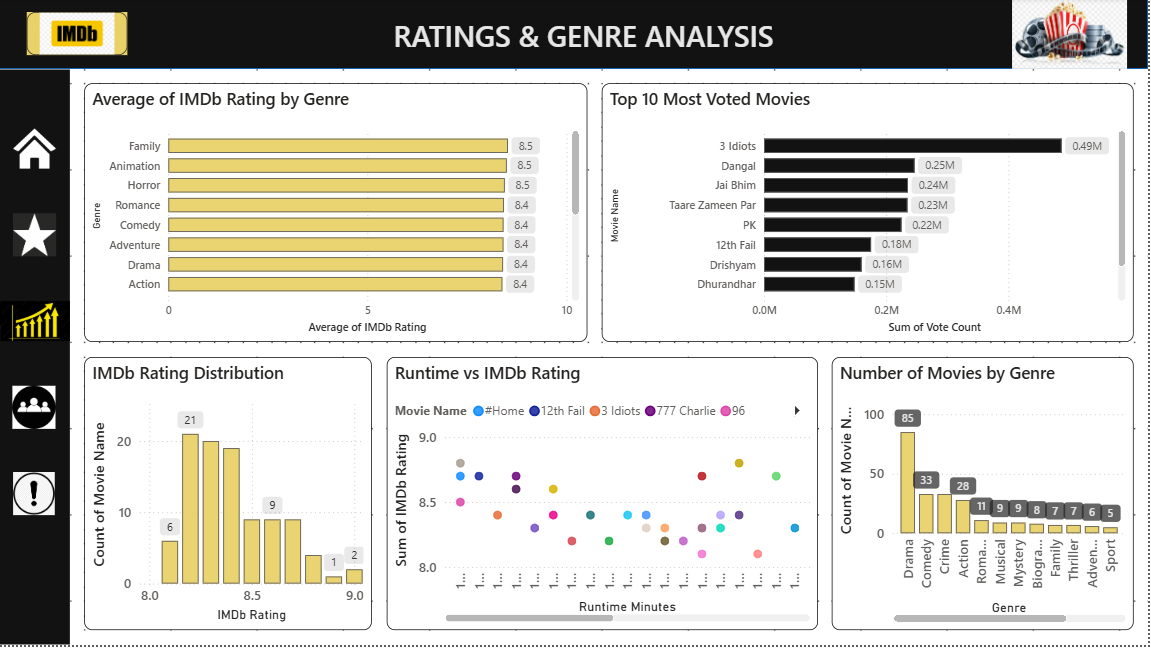

This screenshot's page, from the dashboard's own definition file:
{"tool":"powerbi","page":{"name":"Ratings & Genre Analysis","canvas":[1280,720],"ordinal":1},"visuals":[{"type":"shape","box":[0,0,1280,80],"z":0},{"type":"shape","box":[0,80,80,640],"z":1},{"type":"textbox","box":[384,16,528,64],"z":2},{"type":"image","box":[32,16,112,48],"z":3},{"type":"image","box":[16,144,48,48],"z":4},{"type":"image","box":[16,240,48,48],"z":5},{"type":"image","box":[0,336,80,48],"z":6},{"type":"image","box":[0,432,80,48],"z":7},{"type":"image","box":[0,528,80,48],"z":8},{"type":"clusteredBarChart","fields":{"Category":["Genre.Genre"],"Y":["Avg(Movies.IMDb Rating)"]},"box":[96,96,560,288],"z":9},{"type":"lineStackedColumnComboChart","title":"Number of Movies by Genre","fields":{"Category":["Genre.Genre"],"Y":["CountNonNull(Movies.Movie Name)"]},"box":[928,400,336,304],"z":10},{"type":"columnChart","title":"IMDb Rating Distribution","fields":{"Category":["Movies.IMDb Rating"],"Y":["CountNonNull(Movies.Movie Name)"]},"box":[96,400,320,304],"z":11},{"type":"clusteredBarChart","title":"Top 10 Most Voted Movies","fields":{"Category":["Movies.Movie Name"],"Y":["Sum(Movies.Vote Count)"]},"box":[672,96,592,288],"z":12},{"type":"scatterChart","title":"Runtime vs IMDb Rating","fields":{"Series":["Movies.Movie Name"],"X":["Movies.Runtime Minutes"],"Y":["Sum(Movies.IMDb Rating)"]},"box":[432,400,480,304],"z":13},{"type":"image","box":[1104,0,176,80],"z":14}]}

Visuals, with their boxes on the page's 1280x720 design canvas (x1, y1, x2, y2). These are canvas units, not pixel positions in the 1151x649 screenshot, which may show the page scaled, cropped or inside an application window:
shape: select_region(0, 0, 1280, 80)
shape: select_region(0, 80, 80, 720)
textbox: select_region(384, 16, 912, 80)
image: select_region(32, 16, 144, 64)
image: select_region(16, 144, 64, 192)
image: select_region(16, 240, 64, 288)
image: select_region(0, 336, 80, 384)
image: select_region(0, 432, 80, 480)
image: select_region(0, 528, 80, 576)
clusteredBarChart - Genre.Genre x Avg(Movies.IMDb Rating): select_region(96, 96, 656, 384)
"Number of Movies by Genre" lineStackedColumnComboChart: select_region(928, 400, 1264, 704)
"IMDb Rating Distribution" columnChart: select_region(96, 400, 416, 704)
"Top 10 Most Voted Movies" clusteredBarChart: select_region(672, 96, 1264, 384)
"Runtime vs IMDb Rating" scatterChart: select_region(432, 400, 912, 704)
image: select_region(1104, 0, 1280, 80)
